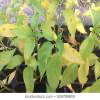Bell_pepper leaf spot: (37, 42, 54, 82), (62, 42, 86, 64), (63, 8, 76, 41), (79, 36, 95, 61), (0, 47, 16, 71), (23, 37, 35, 65), (9, 25, 33, 39), (46, 1, 59, 26), (5, 55, 24, 70), (40, 23, 54, 40)
